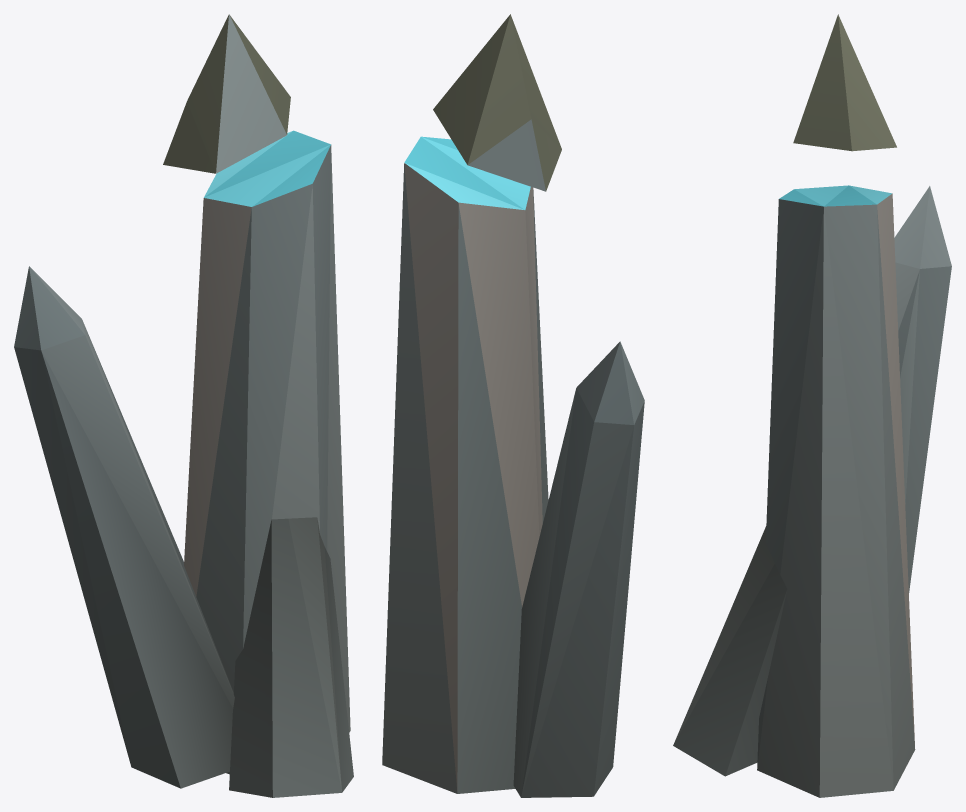
Rendered from rift_shards.glb.
3 views of the same model, side by side, from view 1: azimuth 30°, elevation 25°; view 2: azimuth 150°, elevation 25°; view 3: azimuth 270°, elevation 25° (orthographic). The views are drawn at different scales.
Visible parts, largest first — view 1: ca_rift_shards; view 2: ca_rift_shards; view 3: ca_rift_shards.
Part boxes in pixels (box(x1,y1,x2,y2)): ca_rift_shards: box(14, 14, 353, 797); ca_rift_shards: box(382, 14, 644, 797); ca_rift_shards: box(673, 14, 951, 797).
Bounding box in the file's own units: 0.3113 × 0.7829 × 0.2712.
Materials: 1 (1 with a texture image).
